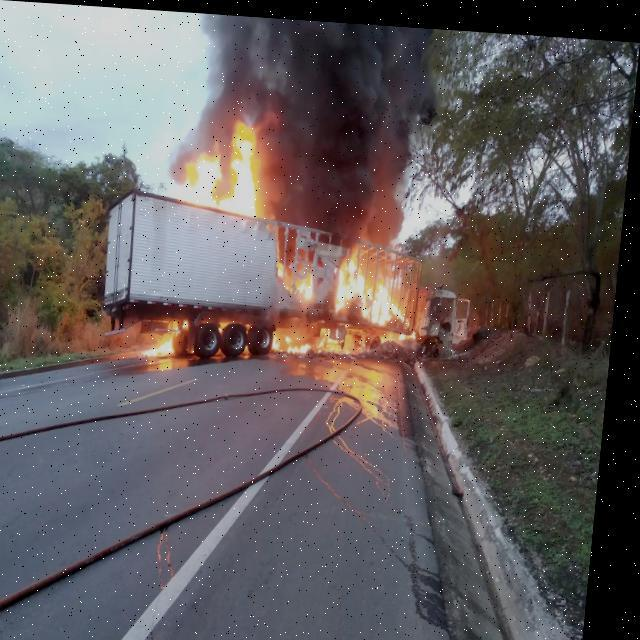Fire: (187, 119, 271, 215), (336, 254, 420, 321), (281, 321, 350, 352), (151, 318, 190, 355), (298, 268, 322, 296), (404, 324, 424, 336), (280, 255, 290, 275)
